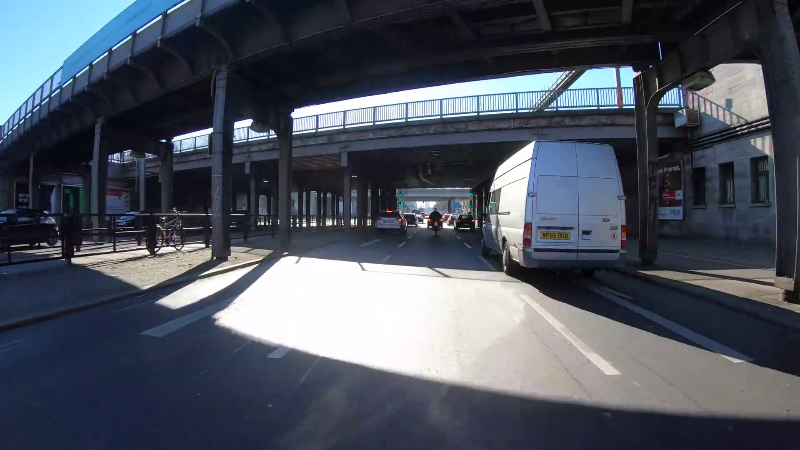Plate: (539, 230, 572, 241)
